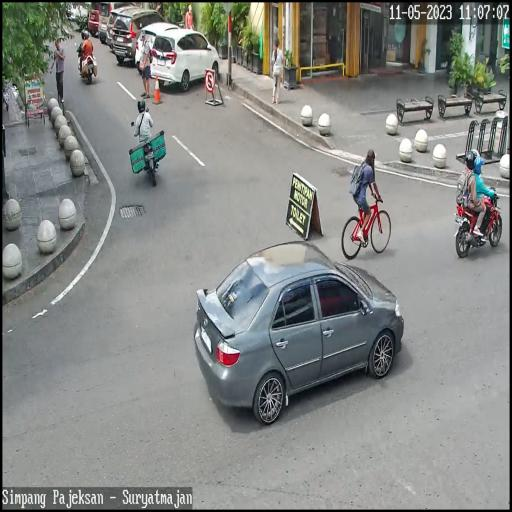mobil: (194, 236, 402, 429), (151, 26, 219, 94), (114, 7, 166, 68), (134, 21, 180, 73)
motor: (451, 173, 506, 260), (129, 116, 165, 190), (74, 43, 98, 85)
